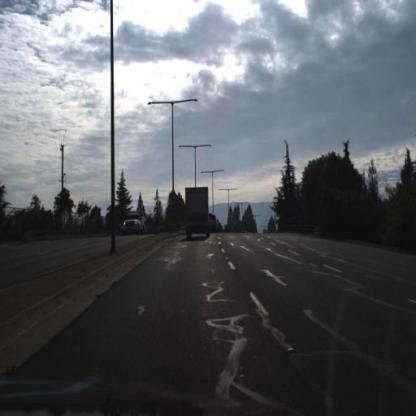car: (122, 212, 148, 238), (208, 212, 219, 232), (242, 229, 249, 238)
truck: (184, 188, 210, 243)
